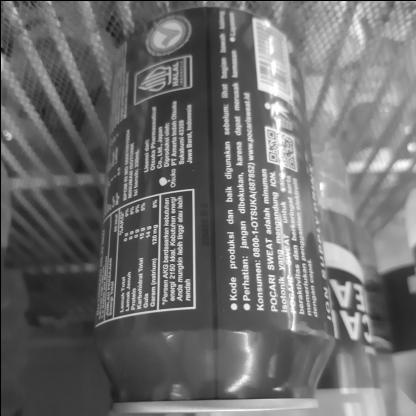alumunium_can: (92, 10, 342, 416)
